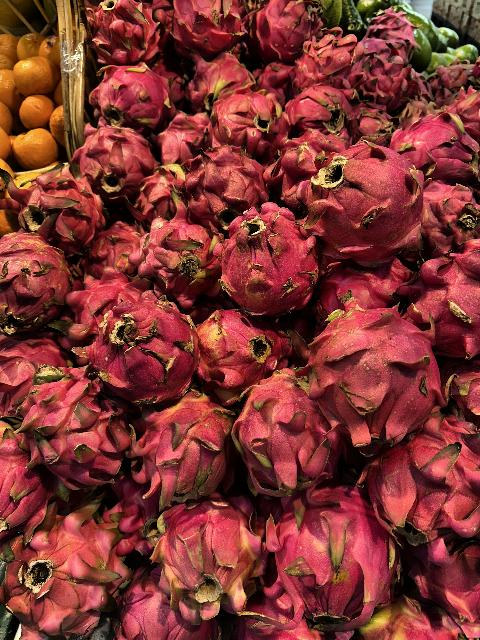buah-naga-belum-matang: (148, 498, 270, 614)
buah-naga-matang: (308, 304, 451, 450), (268, 488, 404, 620), (352, 413, 480, 543), (232, 378, 348, 502), (0, 512, 114, 636), (302, 152, 430, 258), (78, 298, 206, 396), (8, 376, 138, 472), (206, 210, 317, 318), (134, 407, 241, 499), (189, 314, 304, 394), (388, 255, 480, 348), (114, 554, 211, 640), (0, 224, 74, 334), (1, 411, 61, 543), (2, 170, 106, 243), (135, 220, 229, 300), (187, 150, 275, 230), (65, 126, 159, 194), (384, 118, 480, 182), (87, 66, 180, 128), (81, 0, 164, 64), (274, 81, 358, 137), (247, 0, 323, 60), (159, 0, 245, 50), (418, 182, 480, 250), (142, 112, 222, 162), (126, 162, 192, 222), (180, 54, 254, 102), (347, 46, 411, 98), (214, 94, 284, 140), (289, 37, 355, 79)
